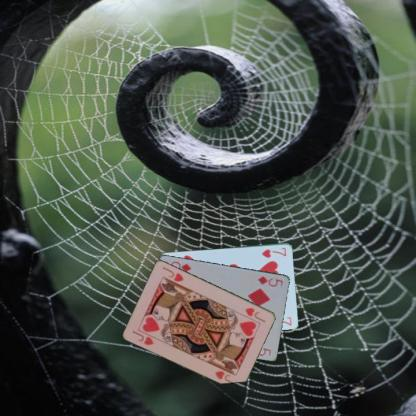5d: (255, 272, 284, 288)
7h: (259, 245, 288, 259)
Jh: (130, 326, 159, 346), (243, 305, 267, 324)
